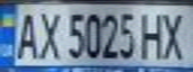0: (81, 9, 103, 60)
2: (100, 9, 121, 60)
5: (63, 8, 84, 60), (118, 9, 139, 60)
A: (12, 8, 42, 61)
H: (139, 8, 169, 61)
X: (157, 8, 193, 61), (33, 7, 63, 61)
